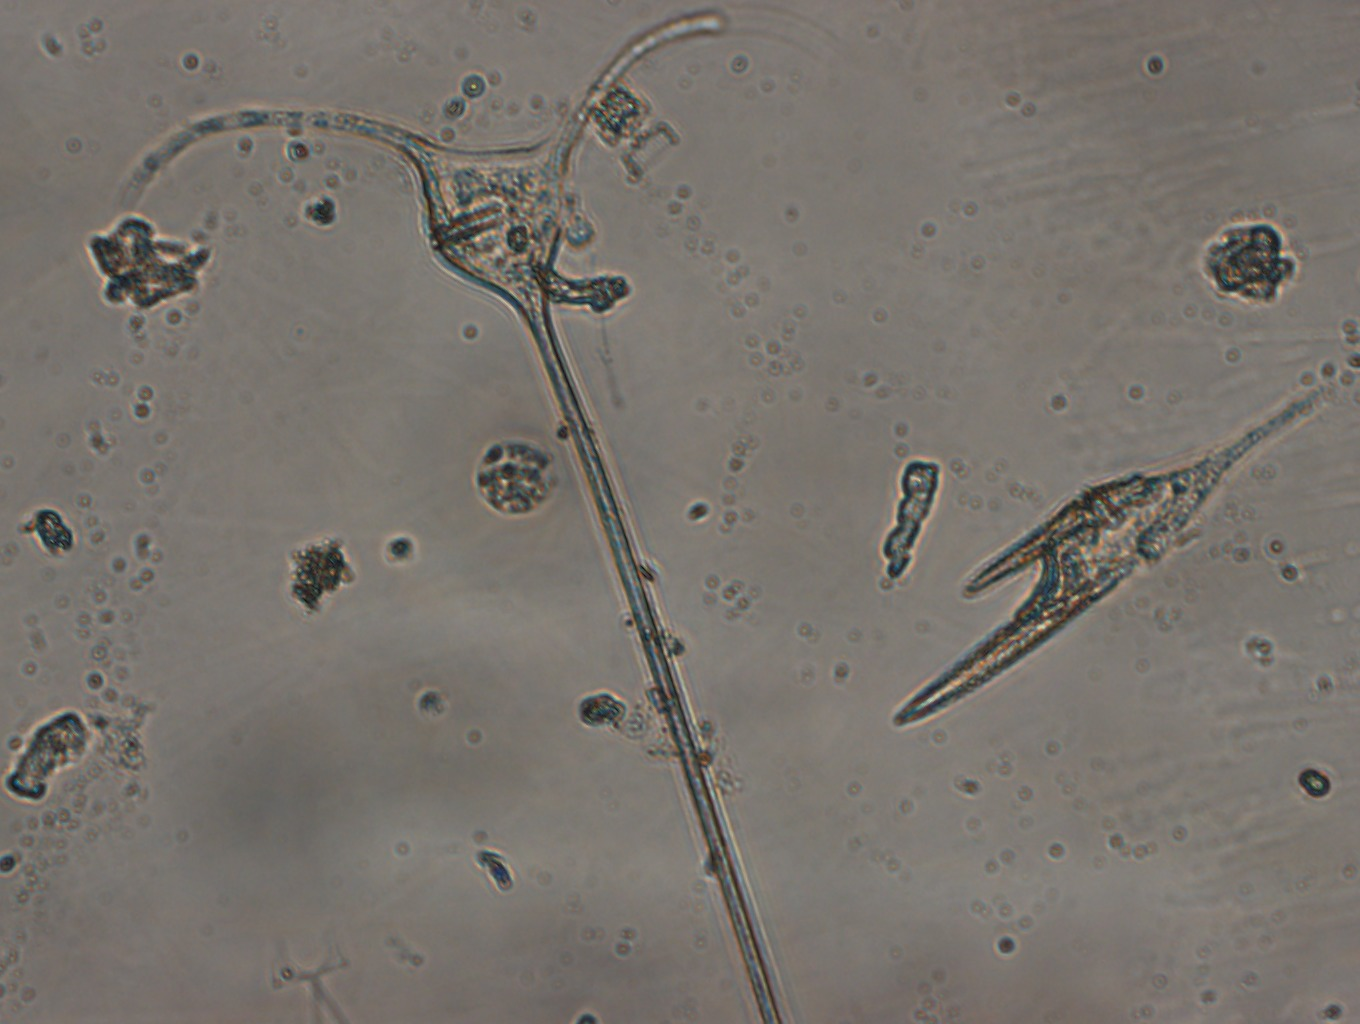ceratium furca: (891, 378, 1343, 731)
ceratium trichoceros: (111, 1, 827, 1022)
